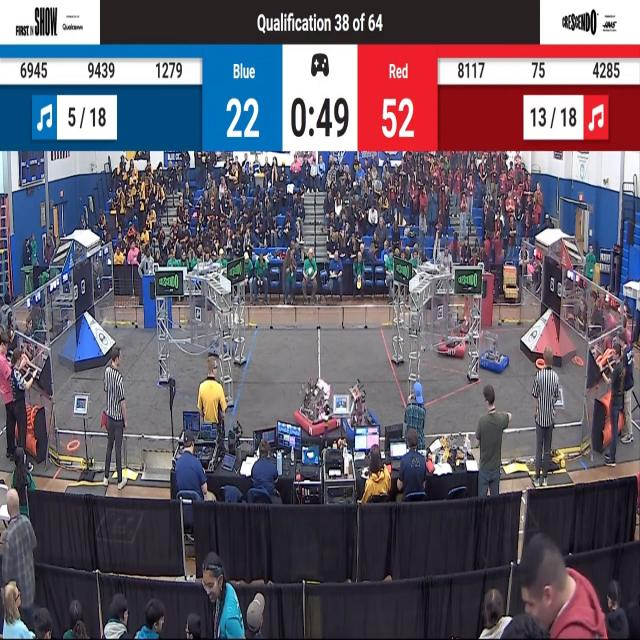Robot: (293, 366, 342, 436), (340, 375, 382, 441), (204, 305, 238, 365), (479, 313, 510, 377), (437, 301, 470, 360), (454, 287, 475, 343)
